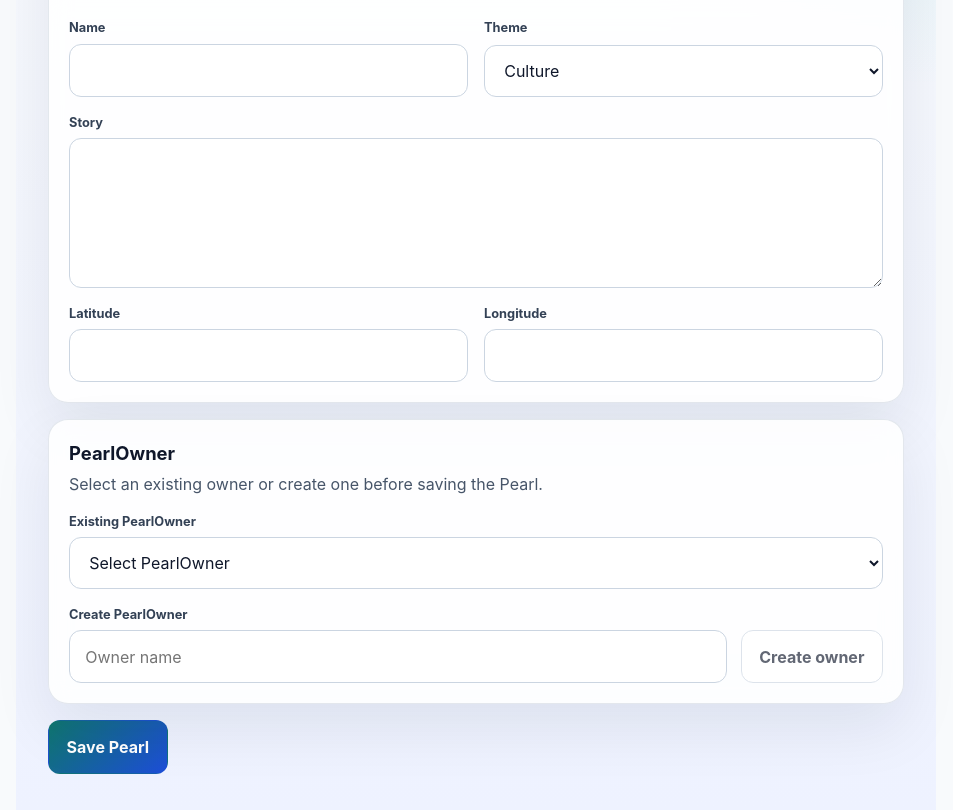
AdminAddPearlPage › shows validation errors for missing required fields
(page scrolled)
Click the button "Save Pearl". click: x=108, y=747
box: [48, 720, 168, 774]
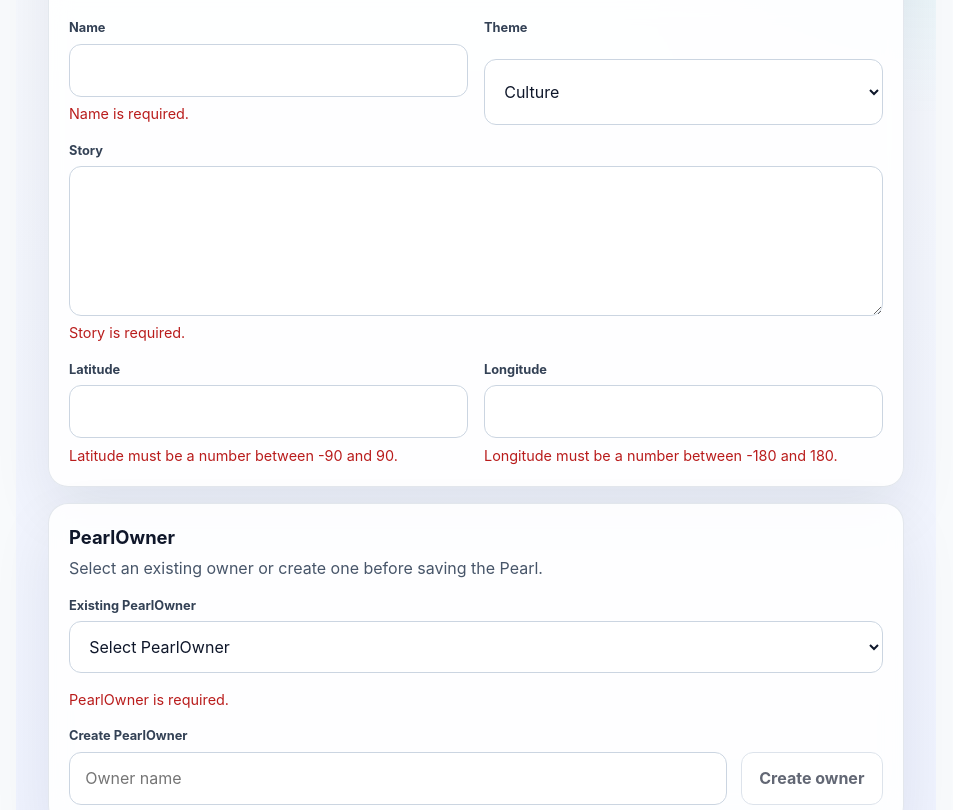
expect the text "Name is required." is shown: met, box [69, 105, 189, 122]
expect the text "Story is required." is shown: met, box [69, 324, 185, 341]
expect the text "Latitude must be a number between -90 and 90." is shown: met, box [69, 447, 398, 464]
